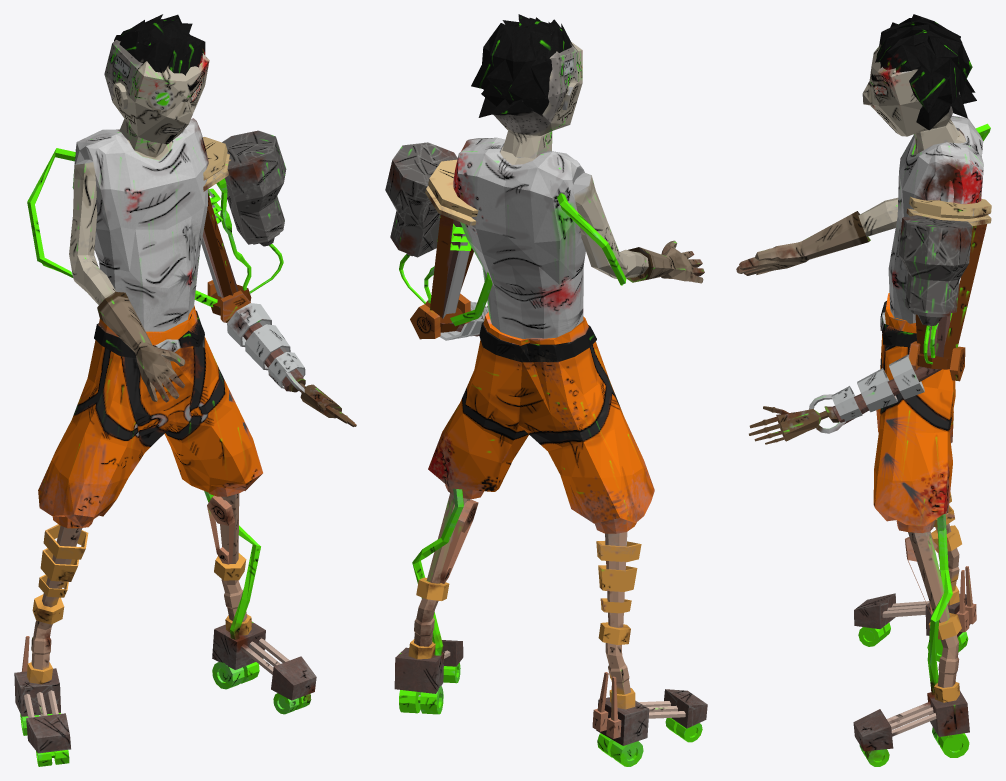
File: CyborgFINALAnimation_000029.obj
3 renders of one model, left to right at view 1: azimuth 30°, elevation 25°; view 2: azimuth 150°, elevation 25°; view 3: azimuth 270°, elevation 25°, orthographic. The views are drawn at different scales.
Visible parts, largest first — view 1: CyborgMesh_Cube.002; view 2: CyborgMesh_Cube.002; view 3: CyborgMesh_Cube.002.
Part boxes in pixels (x1,y1,x2,y2): CyborgMesh_Cube.002: (14, 14, 356, 766); CyborgMesh_Cube.002: (385, 14, 707, 766); CyborgMesh_Cube.002: (736, 14, 991, 766).
Bounding box in the file's own units: 4.02 × 9.65 × 3.25.
